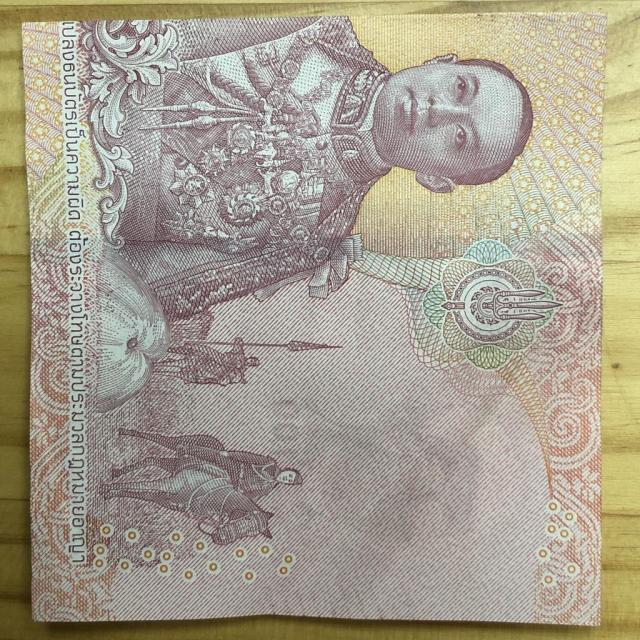THAI100: (20, 6, 609, 629)
